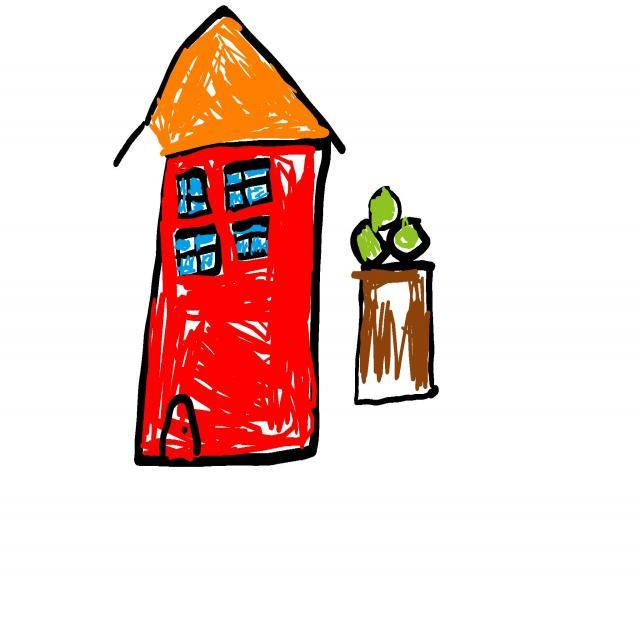door: (158, 390, 203, 463)
house: (111, 4, 348, 473)
roof: (113, 2, 347, 165)
wall: (137, 142, 327, 464)
window: (225, 158, 272, 211), (174, 225, 220, 276), (178, 167, 210, 218), (232, 218, 269, 258)
